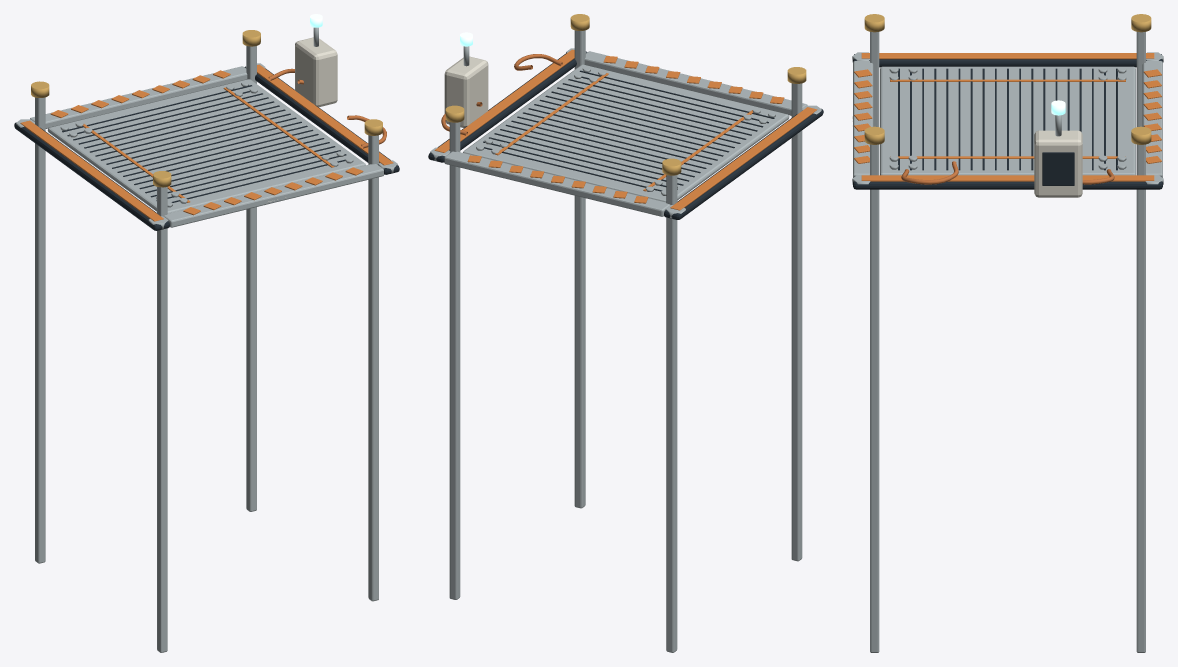
Rendered from lift.glb.
3 renders of one model, left to right at view 1: azimuth 30°, elevation 25°; view 2: azimuth 150°, elevation 25°; view 3: azimuth 270°, elevation 25°, orthographic. The views are drawn at different scales.
Visible parts, largest first — view 1: lift_ROOT__07_Machined_titanium, Lift_platform__07_Machined_titanium, Lift_platform__02_Graphite_chassis, lift_ROOT__06_Mission_orange, lift_ROOT__02_Graphite_chassis, lift_ROOT__01_Ivory_ceramic, lift_ROOT__05_Gold_thermal_blanket, Lift_platform__06_Mission_orange; view 2: lift_ROOT__07_Machined_titanium, Lift_platform__07_Machined_titanium, Lift_platform__02_Graphite_chassis, lift_ROOT__06_Mission_orange, lift_ROOT__02_Graphite_chassis, lift_ROOT__01_Ivory_ceramic, lift_ROOT__05_Gold_thermal_blanket, Lift_platform__06_Mission_orange; view 3: Lift_platform__07_Machined_titanium, lift_ROOT__07_Machined_titanium, lift_ROOT__02_Graphite_chassis, lift_ROOT__06_Mission_orange, Lift_platform__02_Graphite_chassis, lift_ROOT__01_Ivory_ceramic, lift_ROOT__05_Gold_thermal_blanket, Lift_platform__06_Mission_orange, lift_ROOT__04_Burnished_copper.
Boxes of the visible parts, left/top/right/bottom form: lift_ROOT__07_Machined_titanium: left=16, top=27, right=397, bottom=652; Lift_platform__07_Machined_titanium: left=47, top=79, right=365, bottom=213; Lift_platform__02_Graphite_chassis: left=62, top=85, right=346, bottom=202; lift_ROOT__06_Mission_orange: left=20, top=64, right=393, bottom=221; lift_ROOT__02_Graphite_chassis: left=14, top=66, right=399, bottom=230; lift_ROOT__01_Ivory_ceramic: left=267, top=37, right=337, bottom=202; lift_ROOT__05_Gold_thermal_blanket: left=31, top=30, right=382, bottom=187; Lift_platform__06_Mission_orange: left=82, top=87, right=334, bottom=202; lift_ROOT__07_Machined_titanium: left=430, top=30, right=821, bottom=652; Lift_platform__07_Machined_titanium: left=463, top=64, right=789, bottom=202; Lift_platform__02_Graphite_chassis: left=483, top=70, right=774, bottom=191; lift_ROOT__06_Mission_orange: left=434, top=49, right=817, bottom=210; lift_ROOT__02_Graphite_chassis: left=428, top=51, right=823, bottom=219; lift_ROOT__01_Ivory_ceramic: left=444, top=56, right=488, bottom=127; lift_ROOT__05_Gold_thermal_blanket: left=445, top=14, right=806, bottom=175; Lift_platform__06_Mission_orange: left=495, top=73, right=753, bottom=191; Lift_platform__07_Machined_titanium: left=880, top=66, right=1135, bottom=175; lift_ROOT__07_Machined_titanium: left=852, top=32, right=1163, bottom=652; lift_ROOT__02_Graphite_chassis: left=853, top=54, right=1162, bottom=189; lift_ROOT__06_Mission_orange: left=854, top=53, right=1161, bottom=181; Lift_platform__02_Graphite_chassis: left=898, top=68, right=1117, bottom=170; lift_ROOT__01_Ivory_ceramic: left=852, top=116, right=1082, bottom=197; lift_ROOT__05_Gold_thermal_blanket: left=864, top=14, right=1151, bottom=144; Lift_platform__06_Mission_orange: left=890, top=79, right=1125, bottom=158; lift_ROOT__04_Burnished_copper: left=901, top=161, right=1114, bottom=184.
Bounding box in the file's own units: 5.03 × 9.21 × 4.62.
